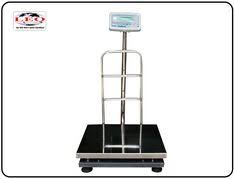Industrial Scale: (75, 12, 167, 174)
